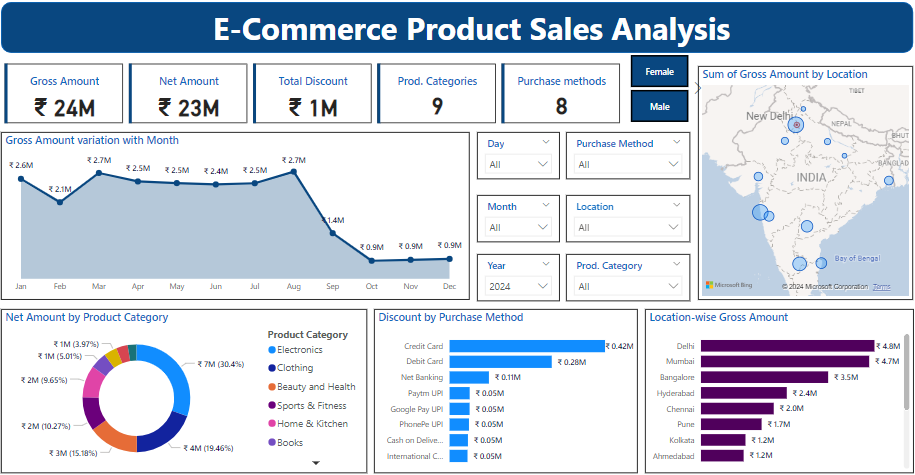

The page's visual inventory and layout, read from the dashboard file:
{"tool":"powerbi","page":{"name":"Page 1","canvas":[1280,720],"ordinal":0},"visuals":[{"type":"slicer","fields":{"Values":["E-Commerce Product Sales.Purchase Method"]},"box":[789.4,192.8,171.5,65.2],"z":0},{"type":"slicer","fields":{"Values":["E-Commerce Product Sales.Month"]},"box":[667.6,279.2,114,65],"z":1000},{"type":"slicer","fields":{"Values":["E-Commerce Product Sales.Day"]},"box":[667.6,192.8,114,65.2],"z":2000},{"type":"slicer","fields":{"Values":["E-Commerce Product Sales.Gender"]},"box":[853.2,79.4,129,106.3],"z":3000},{"type":"cardVisual","fields":{"Data":["Sum(E-Commerce Product Sales.Gross Amount)","Sum(E-Commerce Product Sales.Net Amount)","Sum(E-Commerce Product Sales.Discount Amount (INR))","Count(E-Commerce Product Sales.Product Category)","Count(E-Commerce Product Sales.Purchase Method)"]},"box":[12.8,93.5,858.9,92.1],"z":4000},{"type":"areaChart","title":"Gross Amount variation with Month","fields":{"Y":["Sum(E-Commerce Product Sales.Gross Amount)"],"Category":["E-Commerce Product Sales.Month Name"]},"box":[12.8,192.8,644.9,231],"z":5000},{"type":"barChart","title":"Discount by Purchase Method","fields":{"Category":["E-Commerce Product Sales.Purchase Method"],"Y":["Sum(E-Commerce Product Sales.Discount Amount (INR))"]},"box":[525.8,436.3,363.4,225.7],"z":6000},{"type":"donutChart","title":"Net Amount by Product Category","fields":{"Category":["E-Commerce Product Sales.Product Category"],"Y":["Sum(E-Commerce Product Sales.Net Amount)"]},"box":[12.4,436.3,503.7,225.7],"z":7000},{"type":"slicer","fields":{"Values":["E-Commerce Product Sales.Year"]},"box":[667.6,360,114,65],"z":8000},{"type":"shape","box":[12.9,14.3,1255.7,70.1],"z":9000},{"type":"textbox","box":[299.1,15.6,822,68],"z":10000},{"type":"map","title":"Sum of Gross Amount by Location","fields":{"Category":["E-Commerce Product Sales.Location"],"Size":["Sum(E-Commerce Product Sales.Gross Amount)"]},"box":[972.3,102,296.2,321.7],"z":11000},{"type":"barChart","title":"Location-wise Gross Amount","fields":{"Y":["Sum(E-Commerce Product Sales.Gross Amount)"],"Category":["E-Commerce Product Sales.Location"]},"box":[898.8,436.3,370.2,225.7],"z":12000},{"type":"slicer","fields":{"Values":["E-Commerce Product Sales.Product Category"]},"box":[789.4,360,171.5,65],"z":13000},{"type":"slicer","fields":{"Values":["E-Commerce Product Sales.Location"]},"box":[789.4,279.2,171.5,65],"z":14000}]}

Visuals, with their boxes on the page's 1280x720 design canvas (x1, y1, x2, y2). These are canvas units, not pixel positions in the 915x475 screenshot, which may show the page scaled, cropped or inside an application window:
slicer - E-Commerce Product Sales.Purchase Method: bbox=(789, 193, 961, 258)
slicer - E-Commerce Product Sales.Month: bbox=(668, 279, 782, 344)
slicer - E-Commerce Product Sales.Day: bbox=(668, 193, 782, 258)
slicer - E-Commerce Product Sales.Gender: bbox=(853, 79, 982, 186)
cardVisual - Sum(E-Commerce Product Sales.Gross Amount) x Sum(E-Commerce Product Sales.Net Amount): bbox=(13, 94, 872, 186)
"Gross Amount variation with Month" areaChart: bbox=(13, 193, 658, 424)
"Discount by Purchase Method" barChart: bbox=(526, 436, 889, 662)
"Net Amount by Product Category" donutChart: bbox=(12, 436, 516, 662)
slicer - E-Commerce Product Sales.Year: bbox=(668, 360, 782, 425)
shape: bbox=(13, 14, 1269, 84)
textbox: bbox=(299, 16, 1121, 84)
"Sum of Gross Amount by Location" map: bbox=(972, 102, 1268, 424)
"Location-wise Gross Amount" barChart: bbox=(899, 436, 1269, 662)
slicer - E-Commerce Product Sales.Product Category: bbox=(789, 360, 961, 425)
slicer - E-Commerce Product Sales.Location: bbox=(789, 279, 961, 344)
